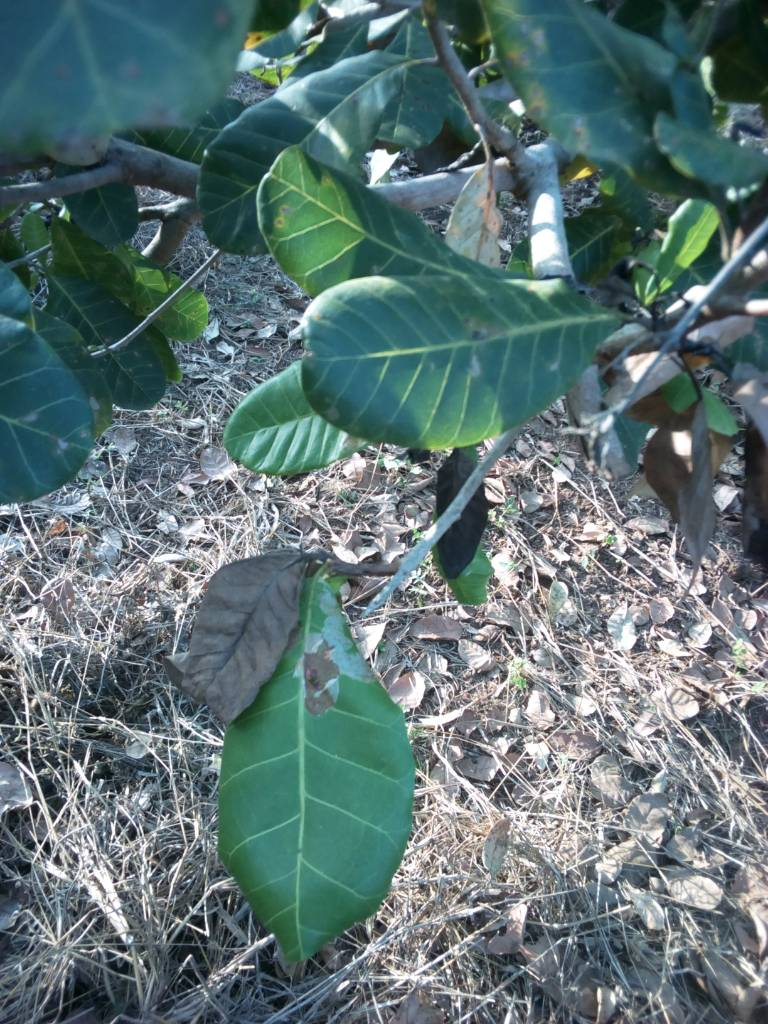Dysdercus wolkerii: (197, 572, 490, 986)
